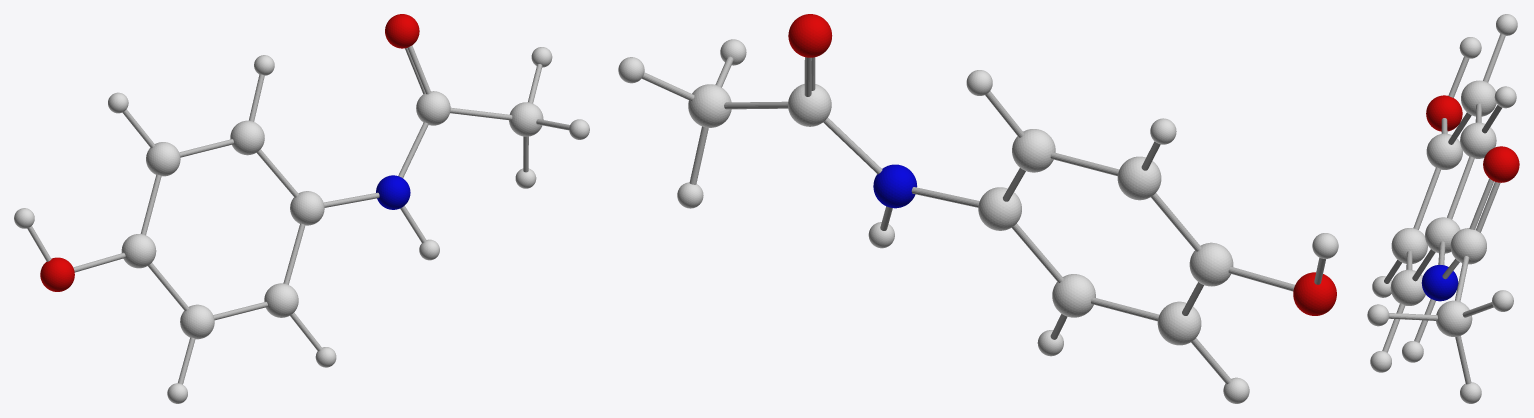
The picture shows the model from 3 angles, left to right: view 1: azimuth 30°, elevation 25°; view 2: azimuth 150°, elevation 25°; view 3: azimuth 270°, elevation 25°; orthographic projection. The views are drawn at different scales.
Visible parts, largest first — view 1: world; view 2: world; view 3: world.
Part boxes in pixels (x1,y1,x2,y2): world: (14,14,589,403); world: (618,14,1338,403); world: (1367,14,1519,403).
Size of the model in its own units: 9.19 by 4.43 by 2.08.
